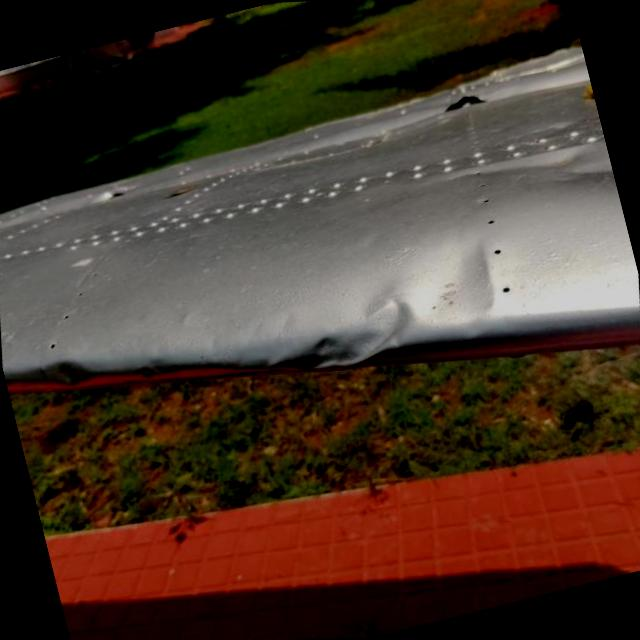dent: (434, 132, 619, 239), (248, 281, 420, 389), (394, 219, 514, 338), (29, 352, 96, 400)
